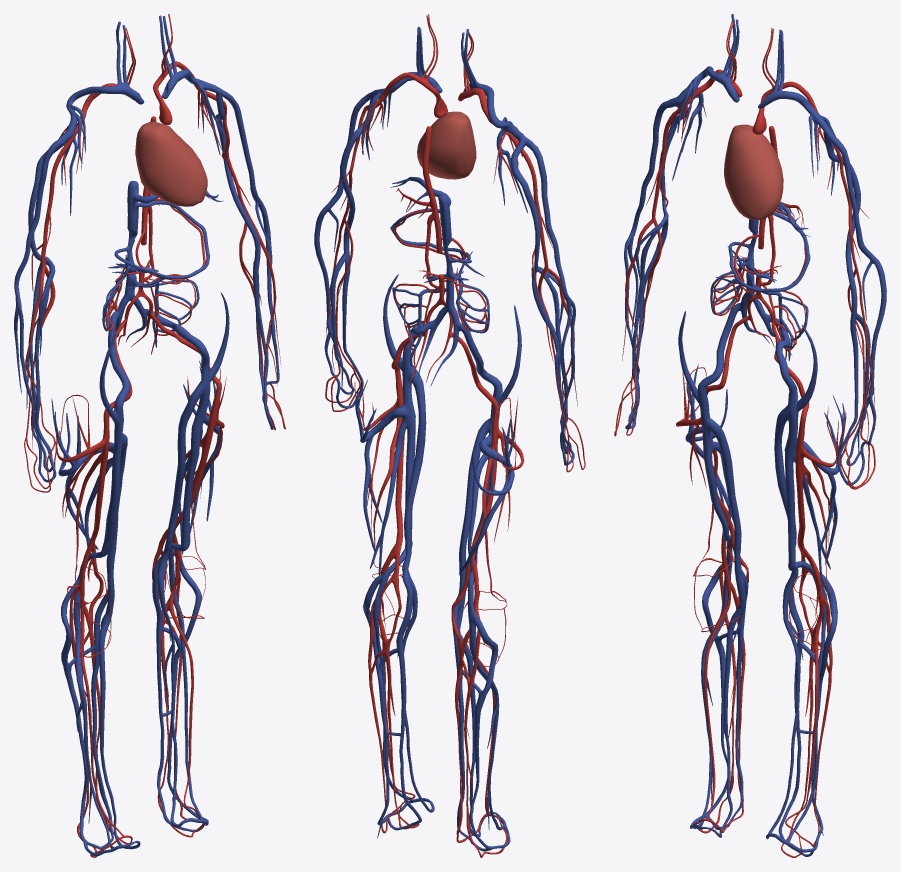
Rendered from pediatric_adolescent_male.cardiovascular.LOD1.glb.
3 views of the same model, side by side, from view 1: azimuth 30°, elevation 25°; view 2: azimuth 150°, elevation 25°; view 3: azimuth 330°, elevation 25° (orthographic).
Visible parts, largest first — view 1: PEDIATRIC.ADOLESCENT.MALE.CARDIOVASCULAR.BLOOD_IN_LARGE_VEIN, PEDIATRIC.ADOLESCENT.MALE.CARDIOVASCULAR.BLOOD_IN_LARGE_ARTE, PEDIATRIC.ADOLESCENT.MALE.CARDIOVASCULAR.HEART_WALL; view 2: PEDIATRIC.ADOLESCENT.MALE.CARDIOVASCULAR.BLOOD_IN_LARGE_VEIN, PEDIATRIC.ADOLESCENT.MALE.CARDIOVASCULAR.BLOOD_IN_LARGE_ARTE, PEDIATRIC.ADOLESCENT.MALE.CARDIOVASCULAR.HEART_WALL; view 3: PEDIATRIC.ADOLESCENT.MALE.CARDIOVASCULAR.BLOOD_IN_LARGE_VEIN, PEDIATRIC.ADOLESCENT.MALE.CARDIOVASCULAR.BLOOD_IN_LARGE_ARTE, PEDIATRIC.ADOLESCENT.MALE.CARDIOVASCULAR.HEART_WALL.
Boxes of the visible parts, x1,y1,x2,y2 form: PEDIATRIC.ADOLESCENT.MALE.CARDIOVASCULAR.BLOOD_IN_LARGE_VEIN: [14, 15, 279, 856]; PEDIATRIC.ADOLESCENT.MALE.CARDIOVASCULAR.BLOOD_IN_LARGE_ARTE: [24, 14, 285, 857]; PEDIATRIC.ADOLESCENT.MALE.CARDIOVASCULAR.HEART_WALL: [135, 121, 207, 206]; PEDIATRIC.ADOLESCENT.MALE.CARDIOVASCULAR.BLOOD_IN_LARGE_VEIN: [314, 26, 575, 851]; PEDIATRIC.ADOLESCENT.MALE.CARDIOVASCULAR.BLOOD_IN_LARGE_ARTE: [325, 14, 585, 857]; PEDIATRIC.ADOLESCENT.MALE.CARDIOVASCULAR.HEART_WALL: [417, 111, 476, 179]; PEDIATRIC.ADOLESCENT.MALE.CARDIOVASCULAR.BLOOD_IN_LARGE_VEIN: [624, 14, 886, 856]; PEDIATRIC.ADOLESCENT.MALE.CARDIOVASCULAR.BLOOD_IN_LARGE_ARTE: [614, 21, 875, 857]; PEDIATRIC.ADOLESCENT.MALE.CARDIOVASCULAR.HEART_WALL: [724, 124, 783, 220].
Bounding box in the file's own units: 0.4889 × 1.5 × 0.1774.
